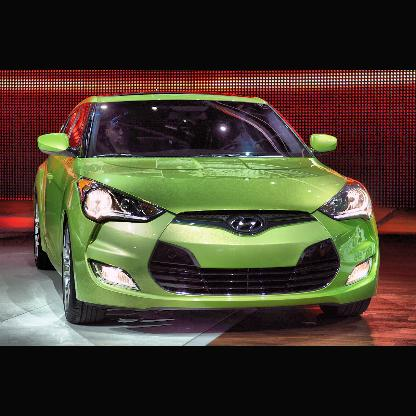Hyundai Veloster Hatchback 2012: (37, 95, 382, 325)
